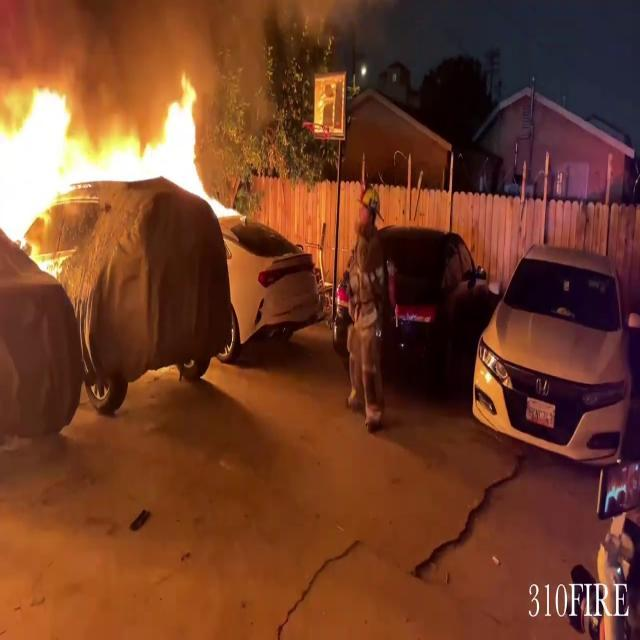Fire: (1, 66, 216, 258)
